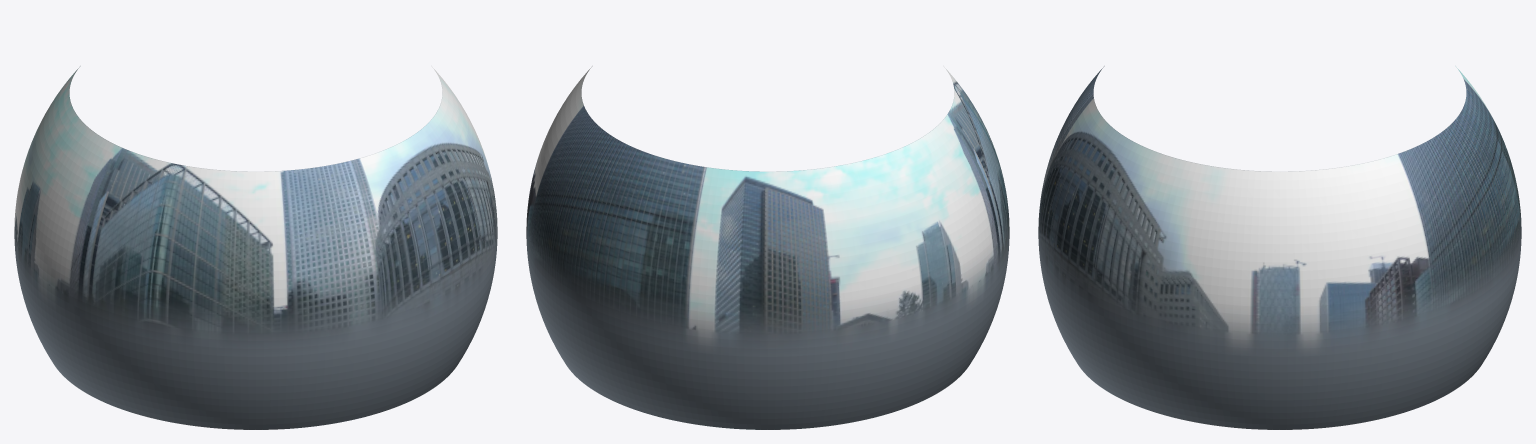
The model's file is office-full.02387a77.glb.
The picture shows the model from 3 angles, left to right: view 1: azimuth 30°, elevation 25°; view 2: azimuth 150°, elevation 25°; view 3: azimuth 270°, elevation 25°; orthographic projection.
Parts seen in each view (by area): view 1: exterior_city; view 2: exterior_city; view 3: exterior_city.
Part boxes in pixels (x1,y1,x2,y2): exterior_city: [14, 66, 497, 429]; exterior_city: [526, 66, 1009, 429]; exterior_city: [1038, 66, 1521, 429].
Bounding box in the file's own units: 800 × 454 × 800.
85 materials, 45 textured.
